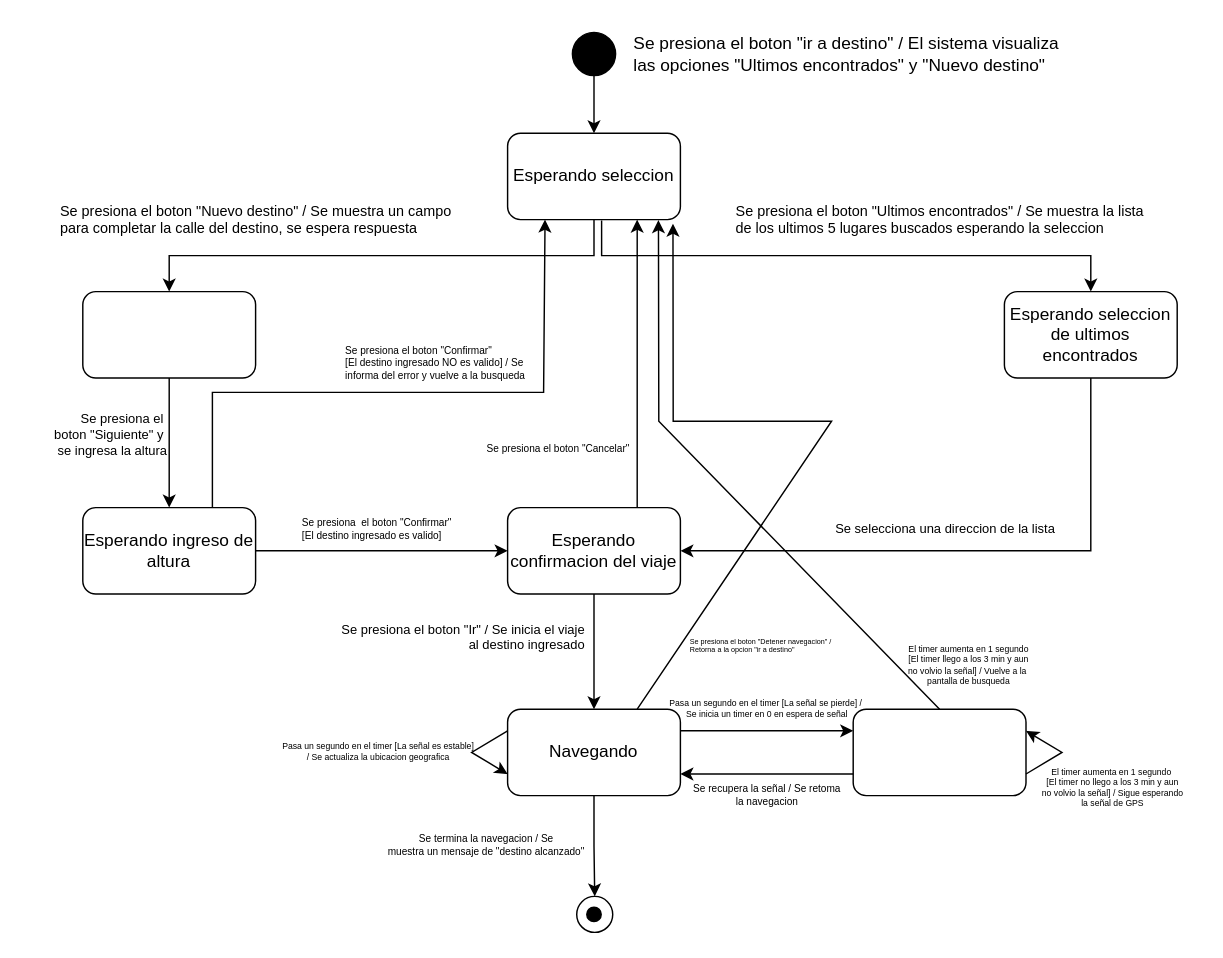
The diagram is 1223 pixels wide and 958 high, and some of its shapes have lost their labels. The centre of each missing label's shape, as x and y in pixels:
Esperando ingreso de nuevo destino: point (168, 334)
Esperando señal: point (939, 752)
